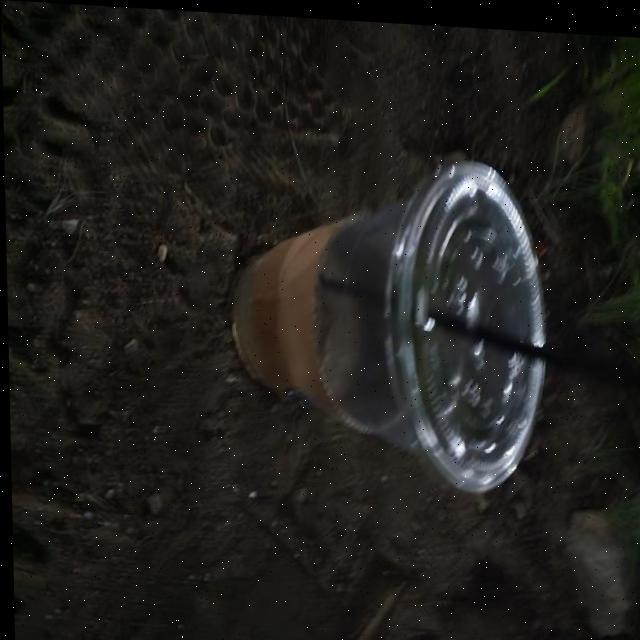cup: (218, 140, 557, 499)
